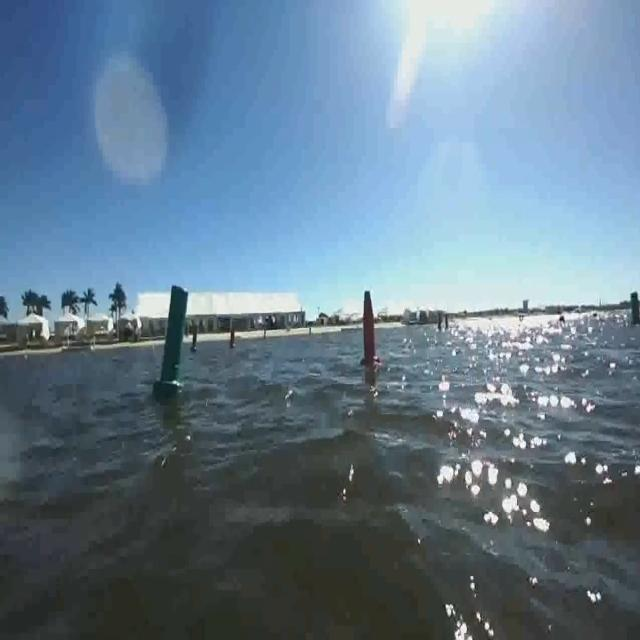green-column-buoy: (156, 284, 192, 397), (628, 289, 640, 327), (189, 324, 198, 354)
red-column-buoy: (358, 287, 381, 368), (228, 326, 236, 351)
